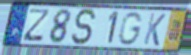1: (107, 11, 120, 46)
8: (48, 7, 72, 45)
G: (117, 11, 145, 47)
K: (142, 11, 167, 48)
S: (70, 8, 99, 47)
Z: (21, 8, 53, 43)
